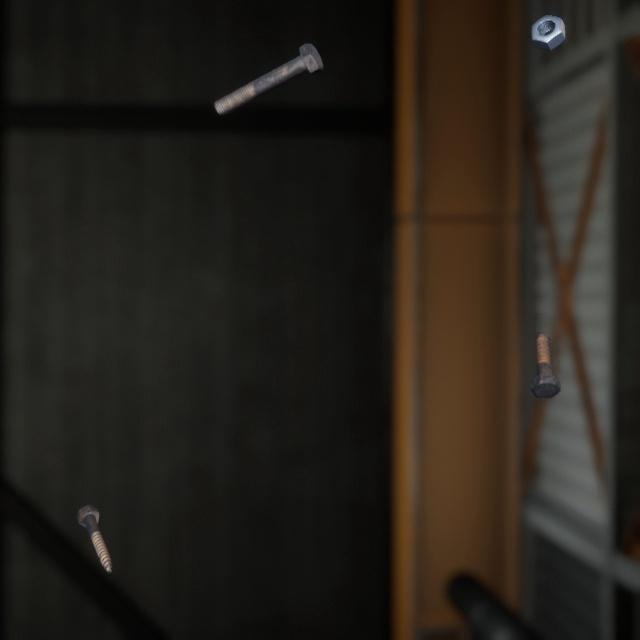bolt: (209, 27, 327, 108), (72, 478, 117, 554), (525, 310, 565, 383)
nut: (526, 2, 569, 46)
